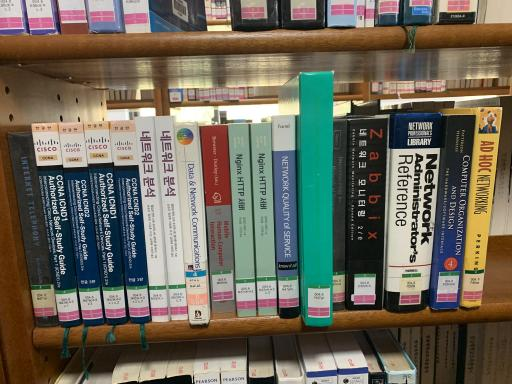book-spine: (388, 113, 441, 313), (31, 123, 82, 328), (7, 132, 59, 327), (60, 122, 104, 326), (84, 122, 128, 325), (109, 121, 151, 323), (461, 107, 502, 308), (301, 70, 333, 327), (434, 115, 475, 309), (348, 118, 388, 311), (175, 122, 209, 325), (135, 116, 168, 322), (200, 125, 236, 313), (155, 116, 188, 320), (273, 115, 300, 319), (228, 124, 256, 317), (251, 123, 277, 315), (333, 120, 347, 310)
